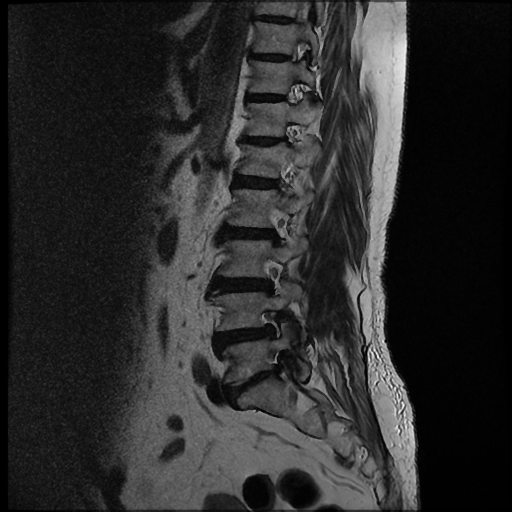LFS0: (250, 299, 299, 346)
